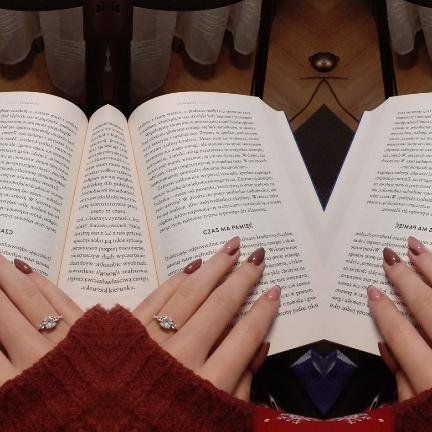Nail: (247, 342, 270, 374), (378, 342, 401, 374), (222, 236, 240, 256), (408, 236, 426, 256), (247, 247, 264, 266), (383, 247, 400, 266), (182, 258, 201, 274), (13, 258, 32, 274), (265, 285, 281, 301), (367, 285, 383, 301)
